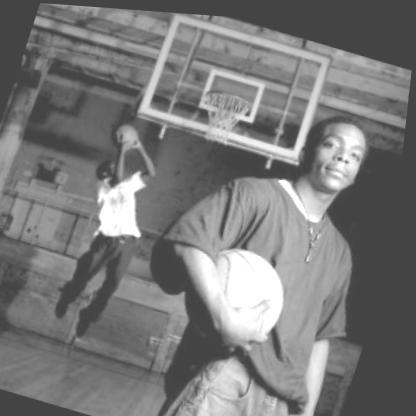basketball: (181, 228, 309, 350), (110, 114, 149, 151)
